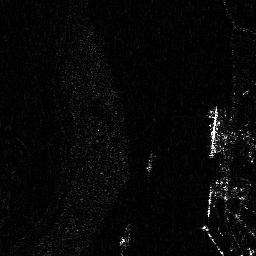ship: (205, 103, 221, 159)
